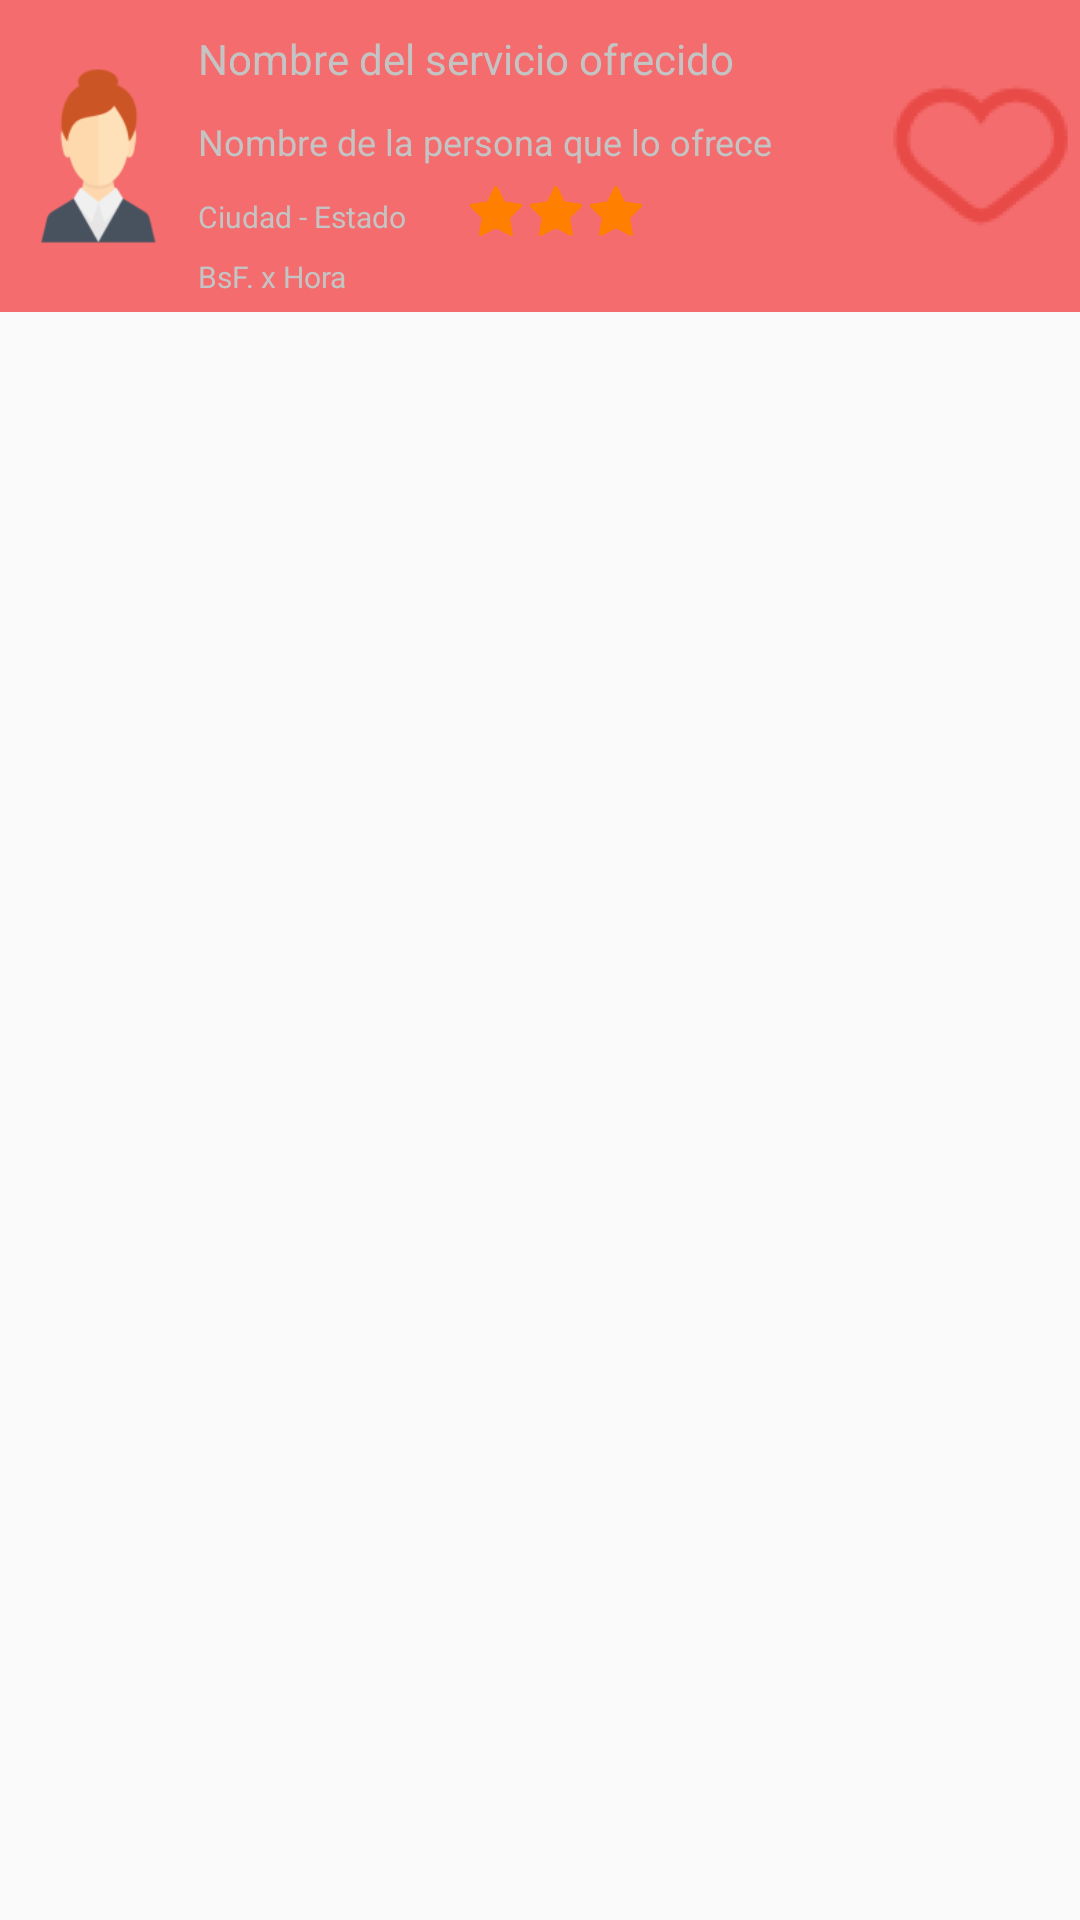

Point at icon controls on the screen. Image size 1080×1920, points as (x,y).
corarvacio: (981,155)
perfilpa: (98,156)
star: (496,211), (556,211), (616,211)
